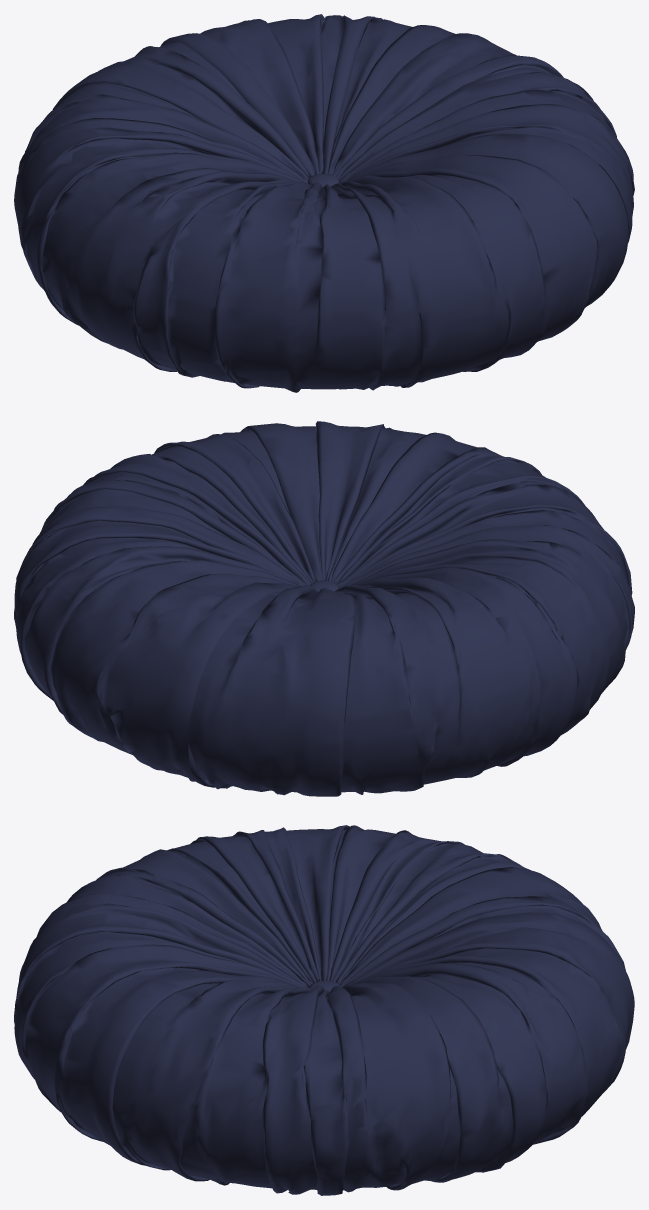
File: pouf.glb
The picture shows the model from 3 angles, top to bottom: view 1: azimuth 30°, elevation 25°; view 2: azimuth 150°, elevation 25°; view 3: azimuth 270°, elevation 25°; orthographic projection.
Parts seen in each view (by area): view 1: SpecularSilkPouf; view 2: SpecularSilkPouf; view 3: SpecularSilkPouf.
Part boxes in pixels (x1,y1,x2,y2): SpecularSilkPouf: [14, 14, 634, 392]; SpecularSilkPouf: [14, 421, 634, 796]; SpecularSilkPouf: [14, 825, 634, 1195].
Size of the model in its own units: 0.6099 by 0.1978 by 0.61.
